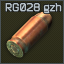9x18mm PM RG028 gzh: (0, 0, 64, 64)
